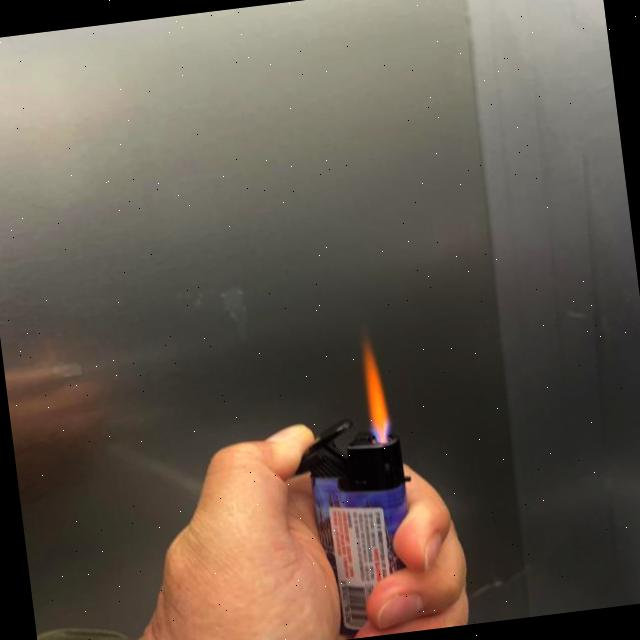fire: (358, 340, 392, 440)
